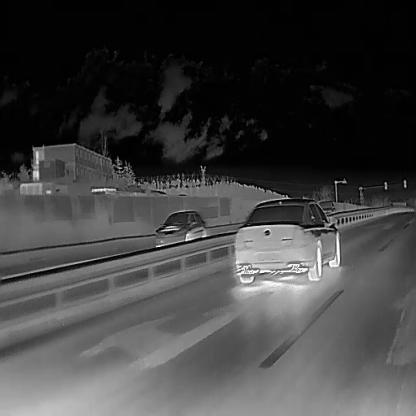car: (233, 195, 340, 282), (153, 209, 207, 246), (316, 199, 336, 216)
